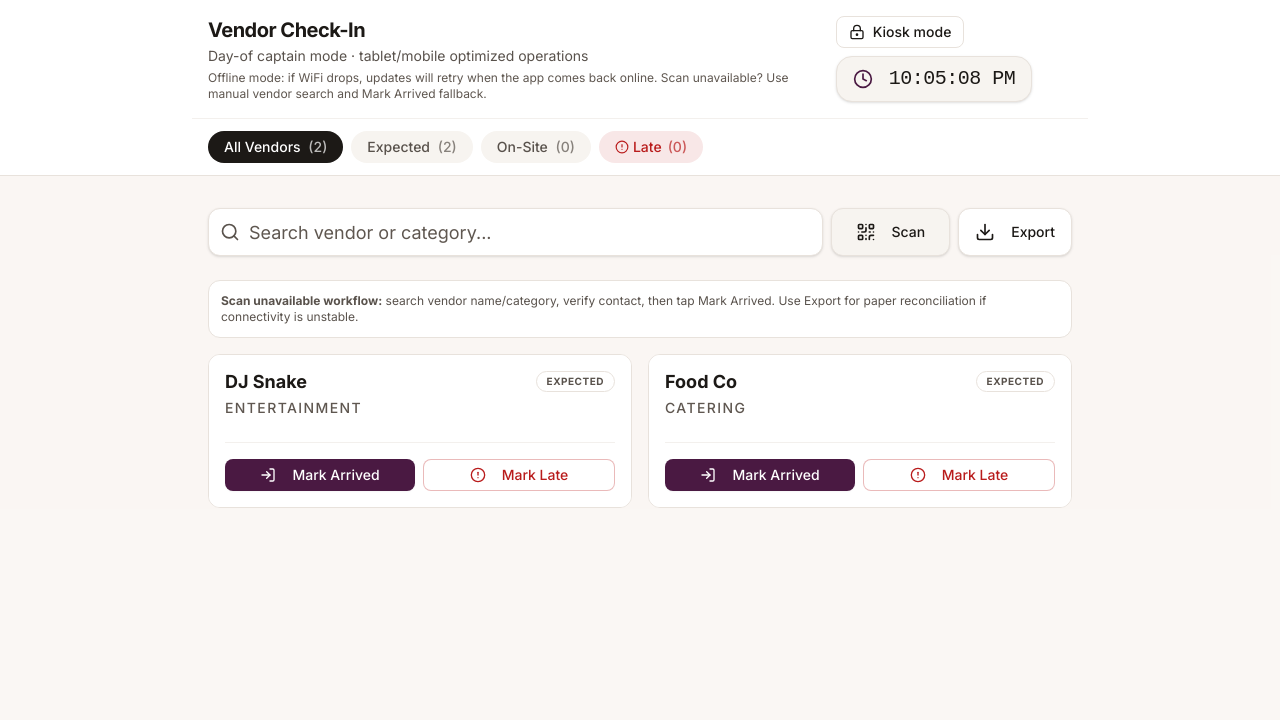
Test: VendorCheckInApp › recognizes guest-help QR codes and shows the guest RSVP/table (real QR flow)
Expected: the heading "DJ Snake" is shown, [225,371,307,392]
Click the button "Scan". click: (890, 232)
box: [831,208,950,256]
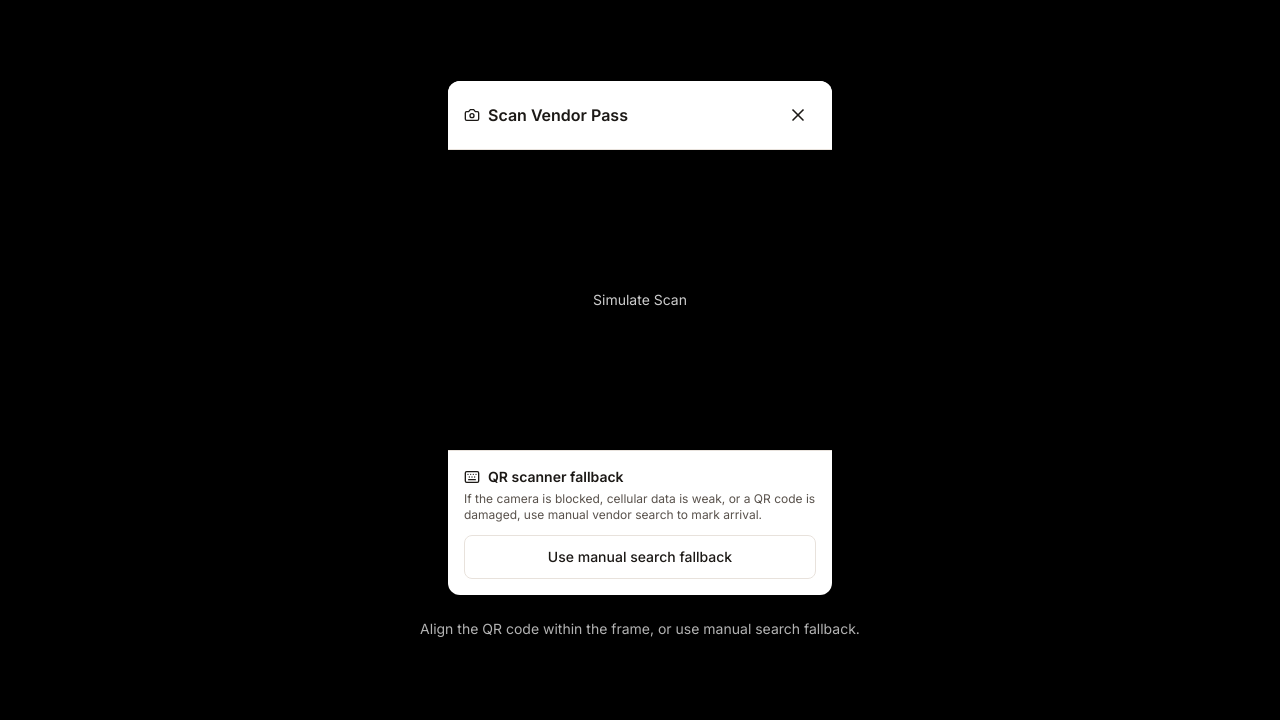
Click the button "Simulate Scan". click: (640, 300)
box: [593,290,687,310]
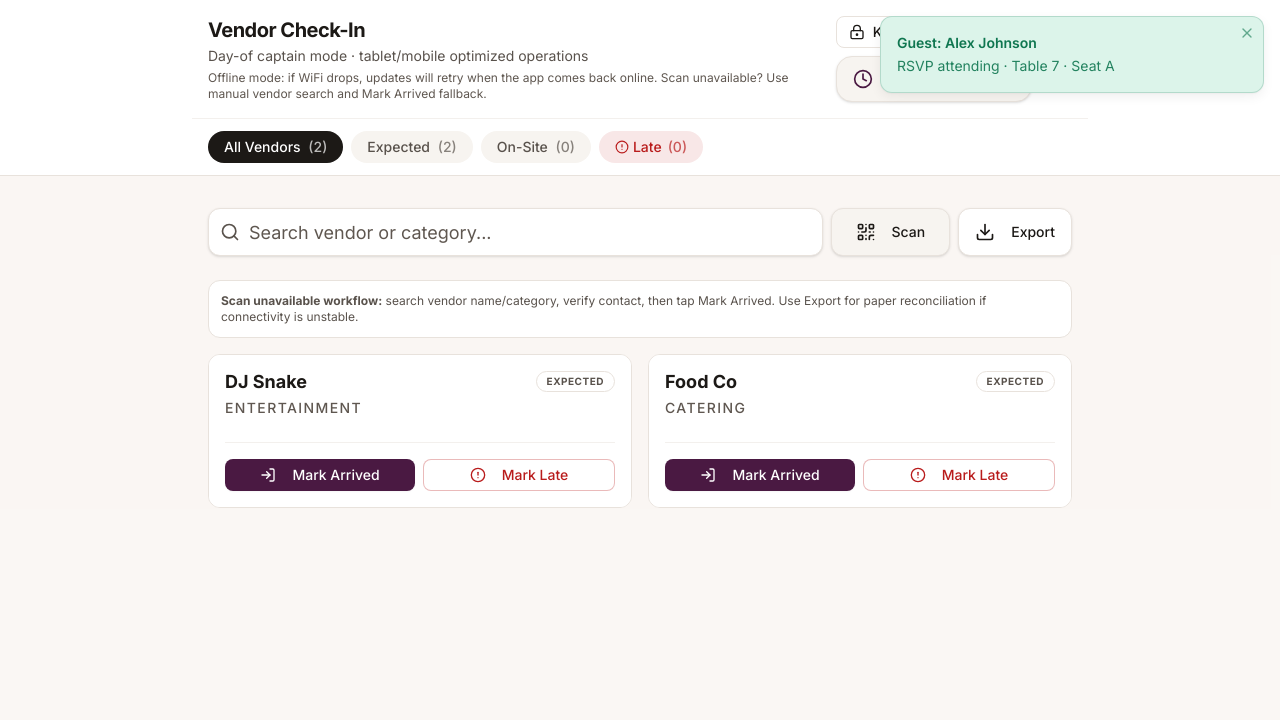
Now the text "Guest: Alex Johnson" is shown, box [897,34,1037,51]
Now the text "RSVP attending · Table 7 · Seat A" is shown, box [897,57,1115,74]
